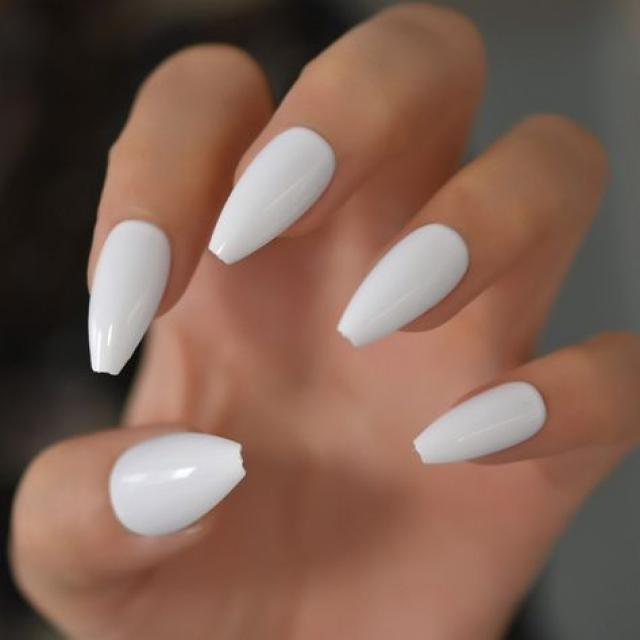Fingernail: (208, 127, 335, 266), (337, 224, 469, 349), (108, 431, 247, 535), (88, 219, 172, 376), (413, 382, 547, 463)
